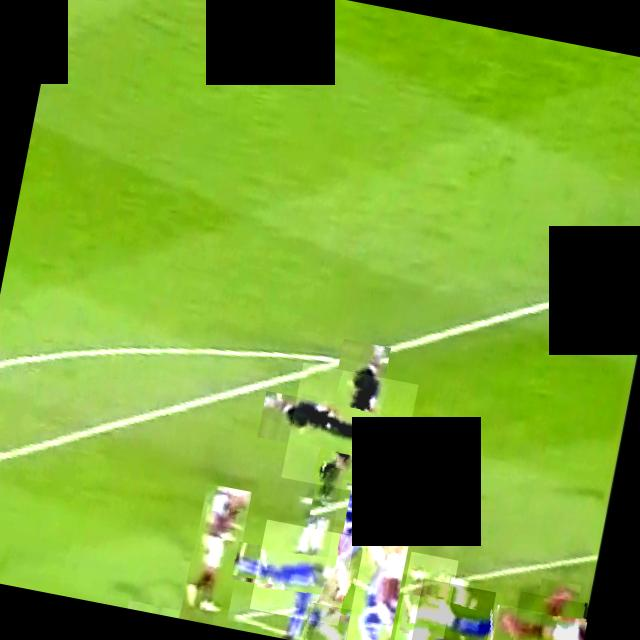goalkeeper: (479, 602, 541, 640)
referee: (280, 362, 418, 498)
soccer-player: (310, 478, 413, 640), (248, 518, 354, 625), (179, 482, 251, 627), (342, 507, 413, 640), (389, 550, 457, 640), (408, 576, 495, 640), (505, 590, 591, 640), (301, 601, 351, 640), (126, 600, 180, 618)
